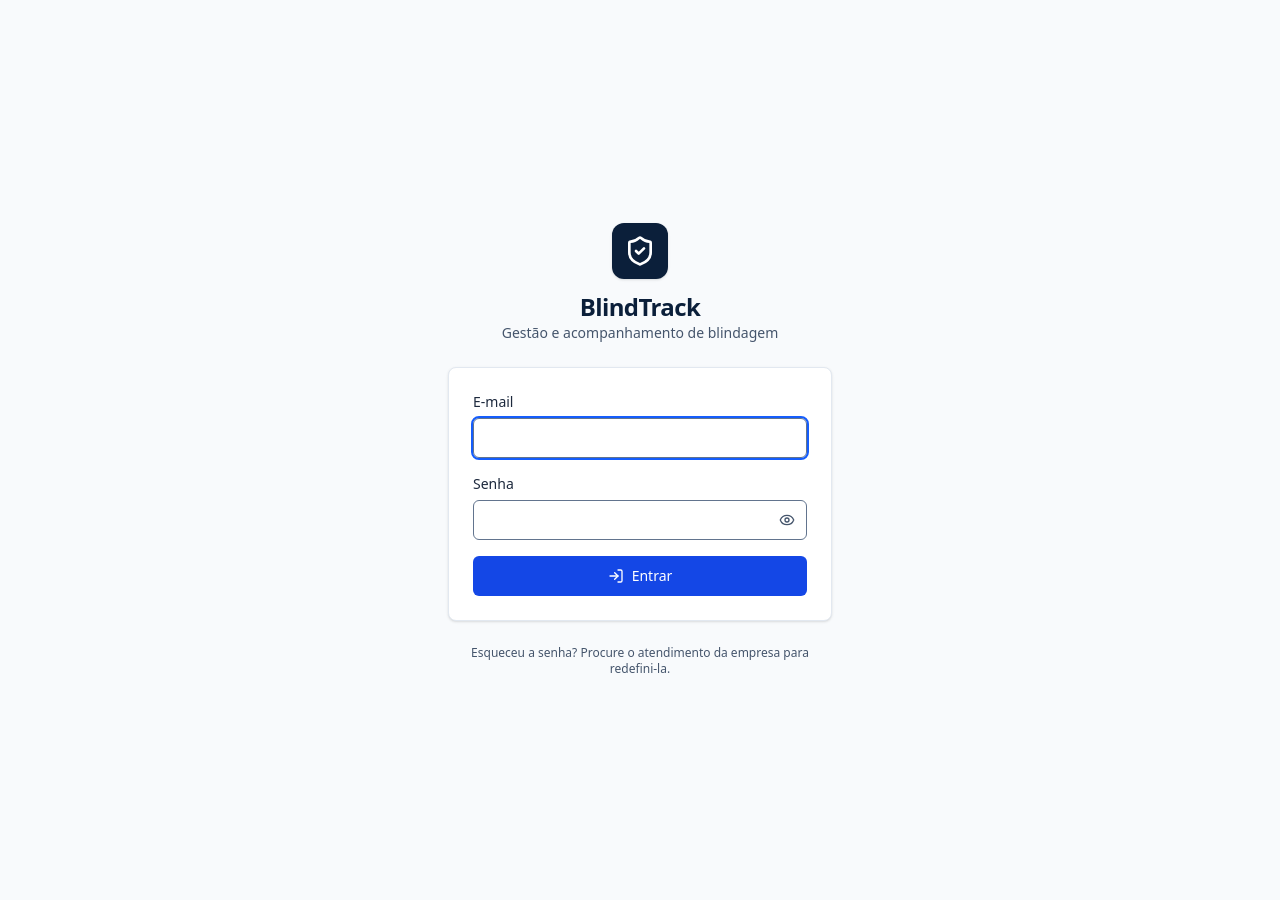
Test case: Login › cliente entra e vai para o portal; credenciais são enviadas uma única vez
Type "cliente@exemplo.example" into the field labelled "E-mail". click: (640, 438)
box: [473, 418, 807, 458]
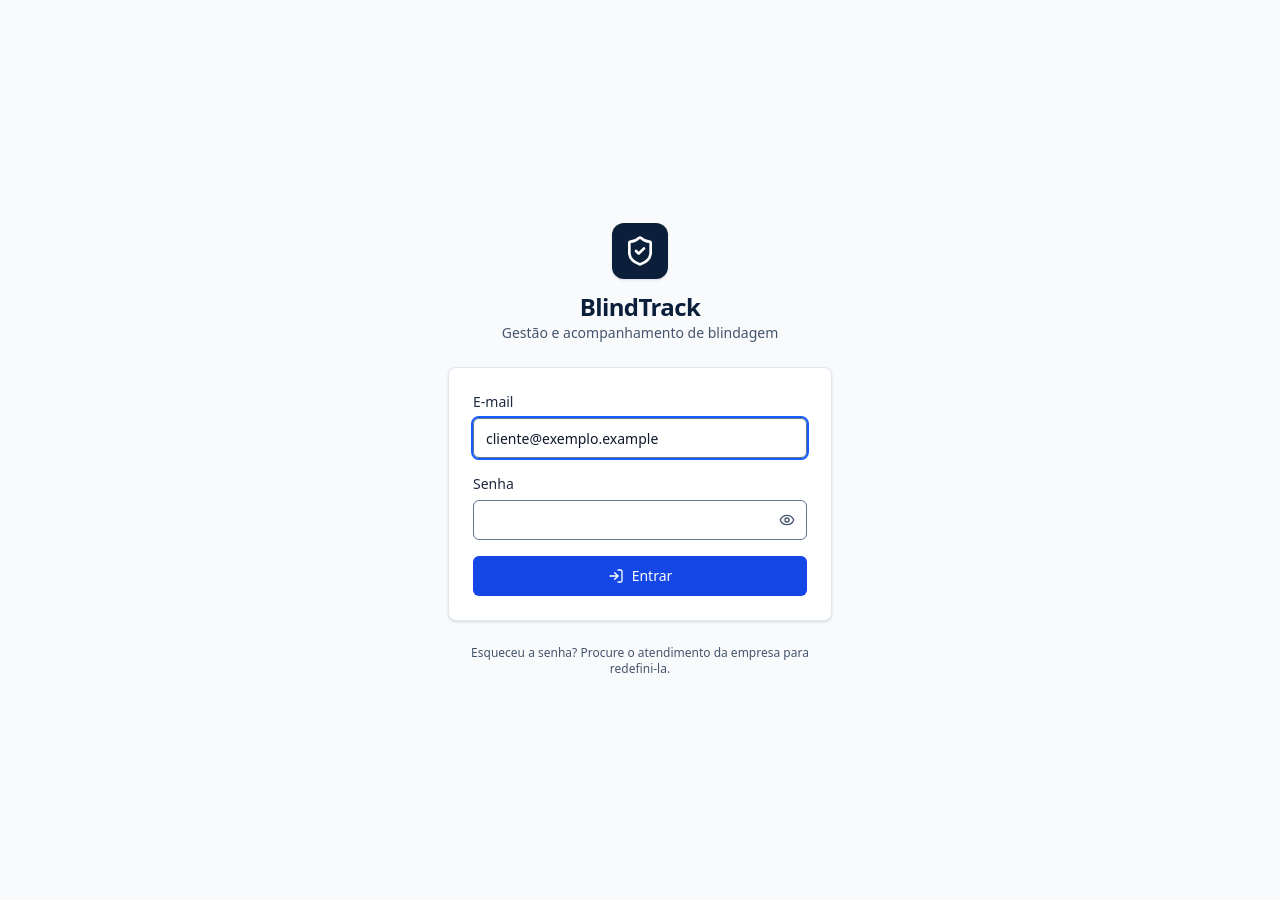
Type "SenhaForte123" into the password field labelled "Senha". click: (640, 520)
box: [473, 500, 807, 540]
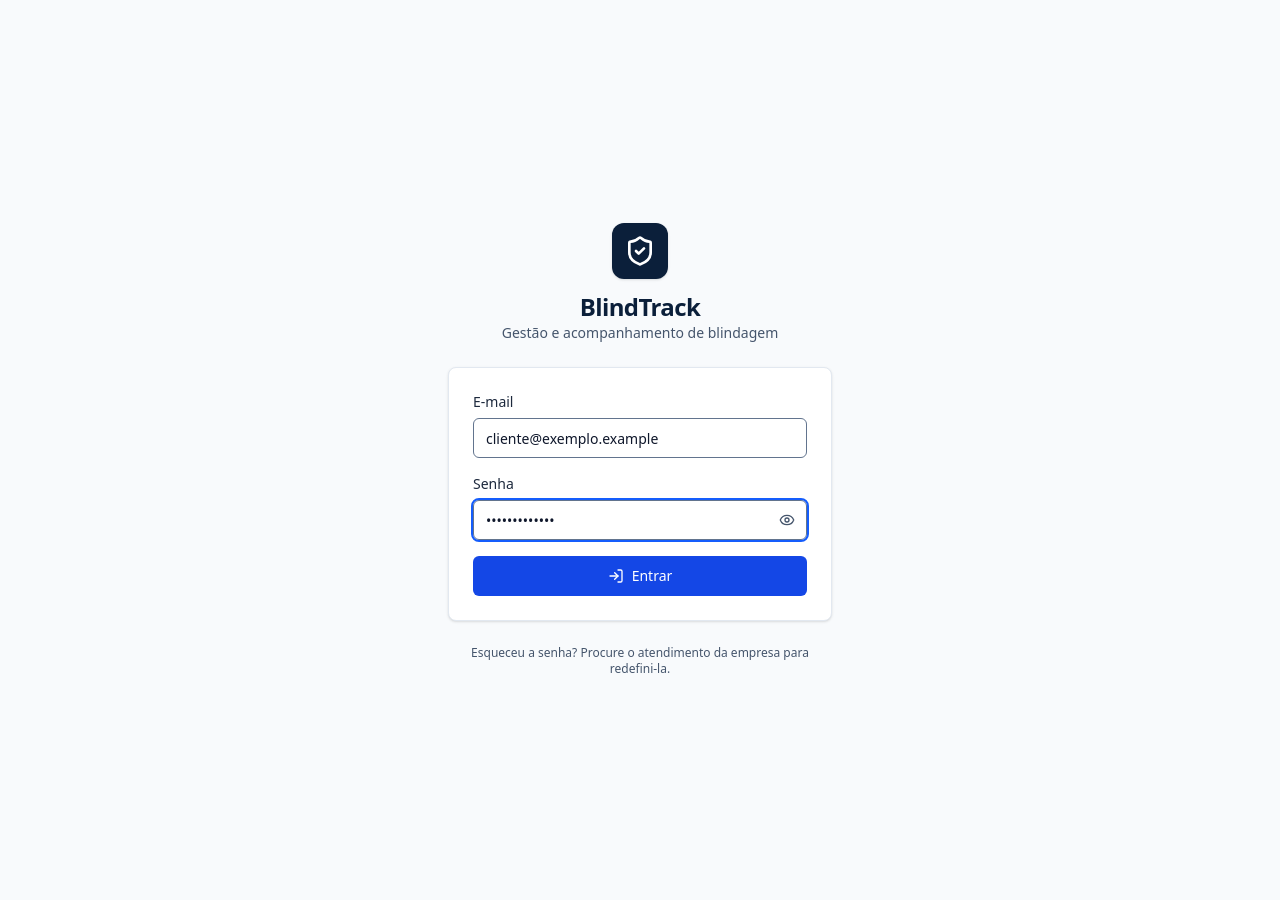
Click the button "Entrar". click: (640, 576)
box: [473, 556, 807, 596]
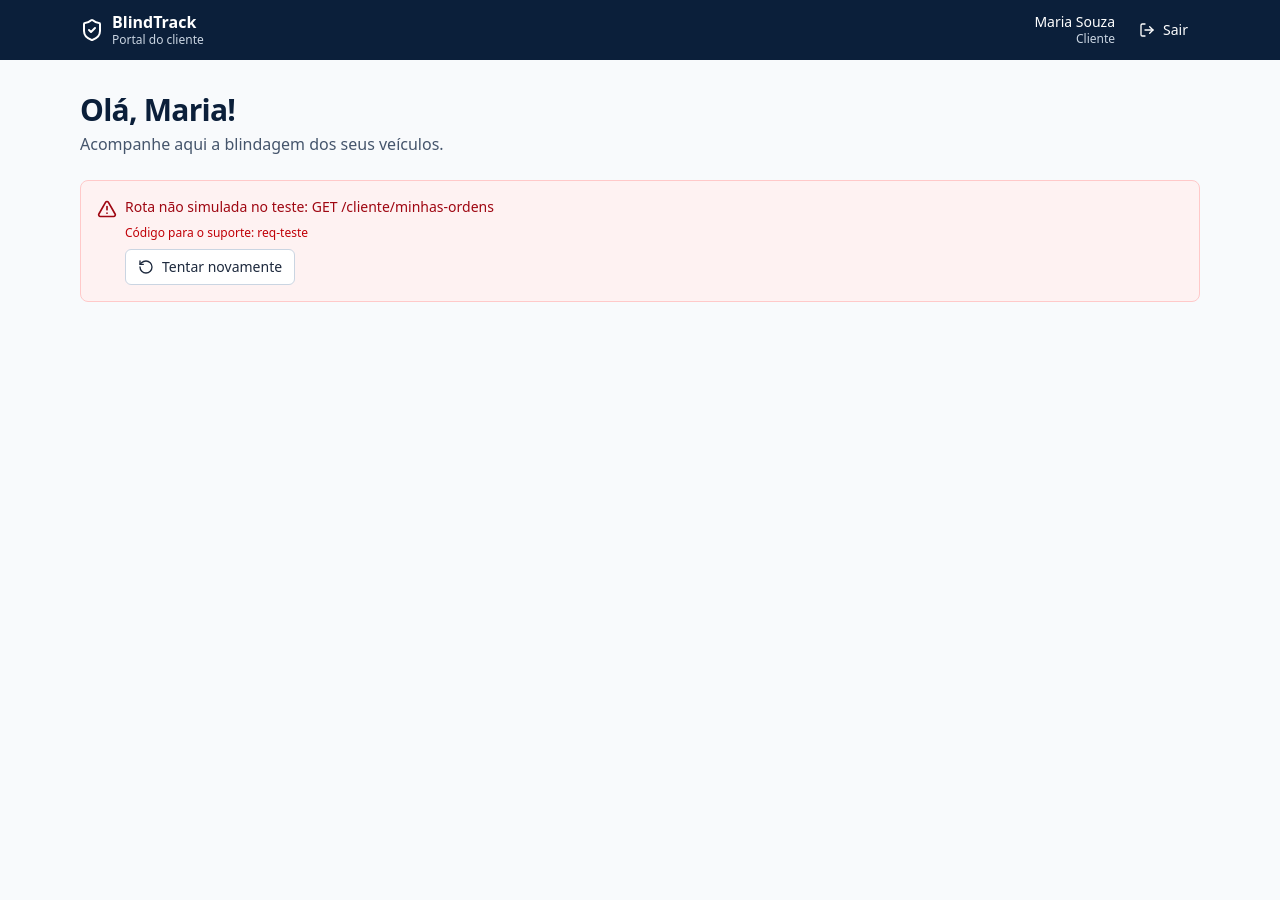
expect the heading "Olá, Maria!" is shown: met, box [80, 89, 235, 130]
expect the text "Portal do cliente" is shown: met, box [112, 32, 204, 48]
